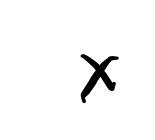mult: (80, 54, 119, 103)
